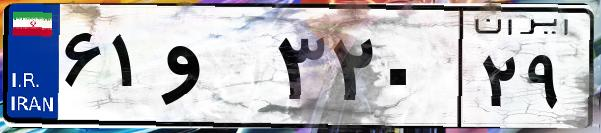0: (385, 28, 445, 110)
1: (110, 28, 158, 98)
2: (330, 28, 385, 110), (475, 38, 525, 113)
3: (270, 28, 330, 110)
6: (57, 26, 110, 100)
9: (525, 38, 570, 115)
و: (158, 20, 270, 120)
